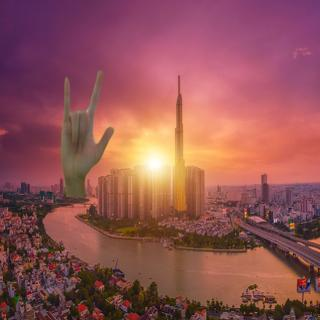ILY: (58, 69, 116, 183)
